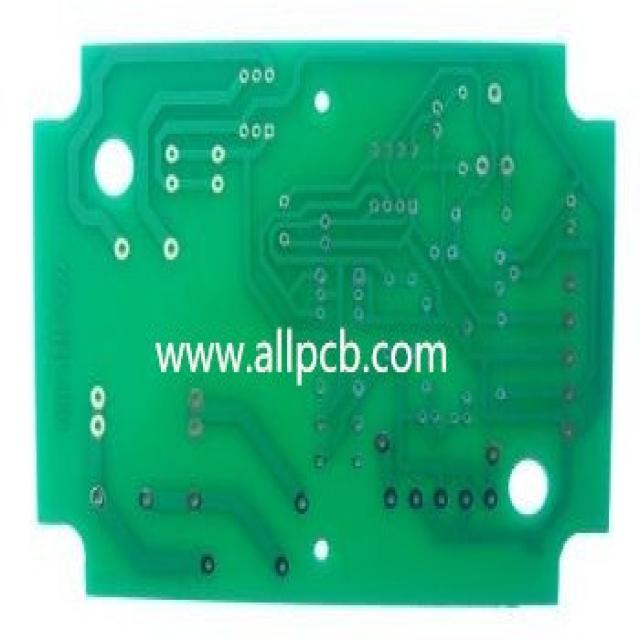pcb: (31, 35, 616, 605)
